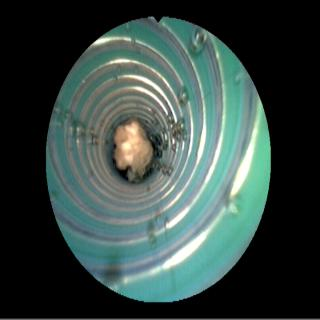stone: (114, 121, 154, 180)
